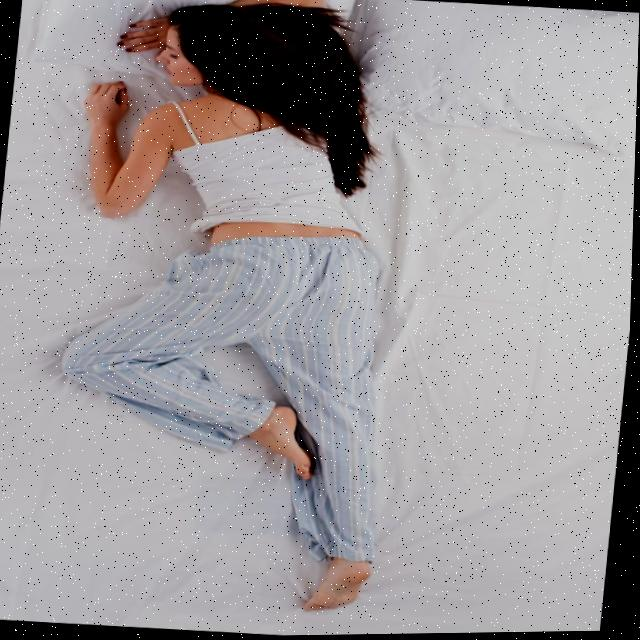sleeping-person: (0, 0, 442, 627)
